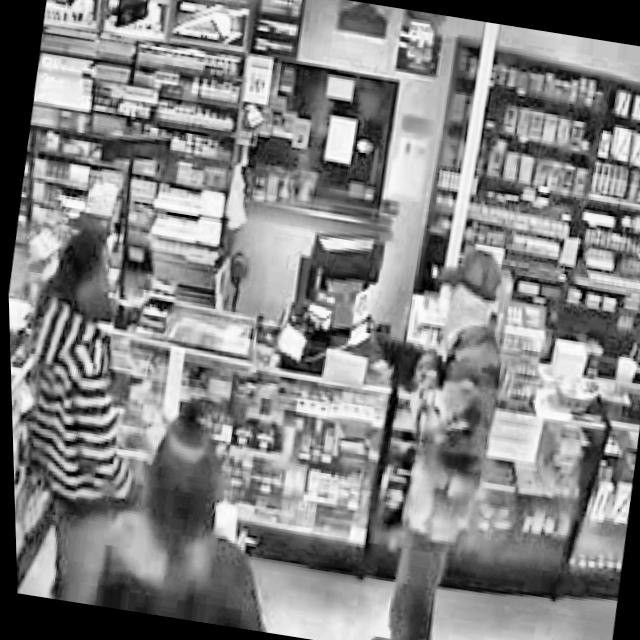robbery: (324, 235, 529, 640)
